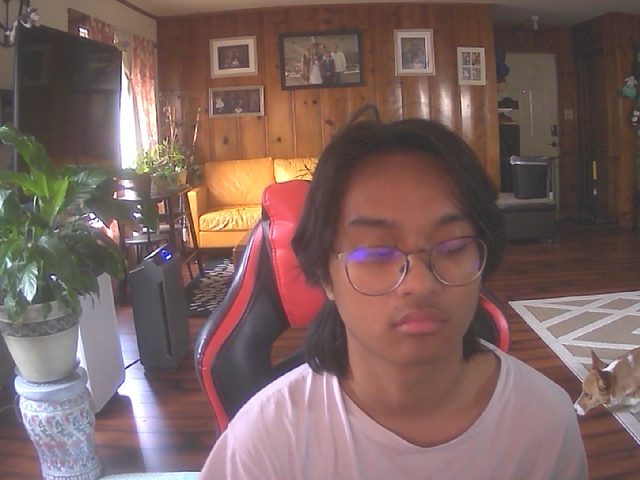neutral: (316, 132, 496, 370)
